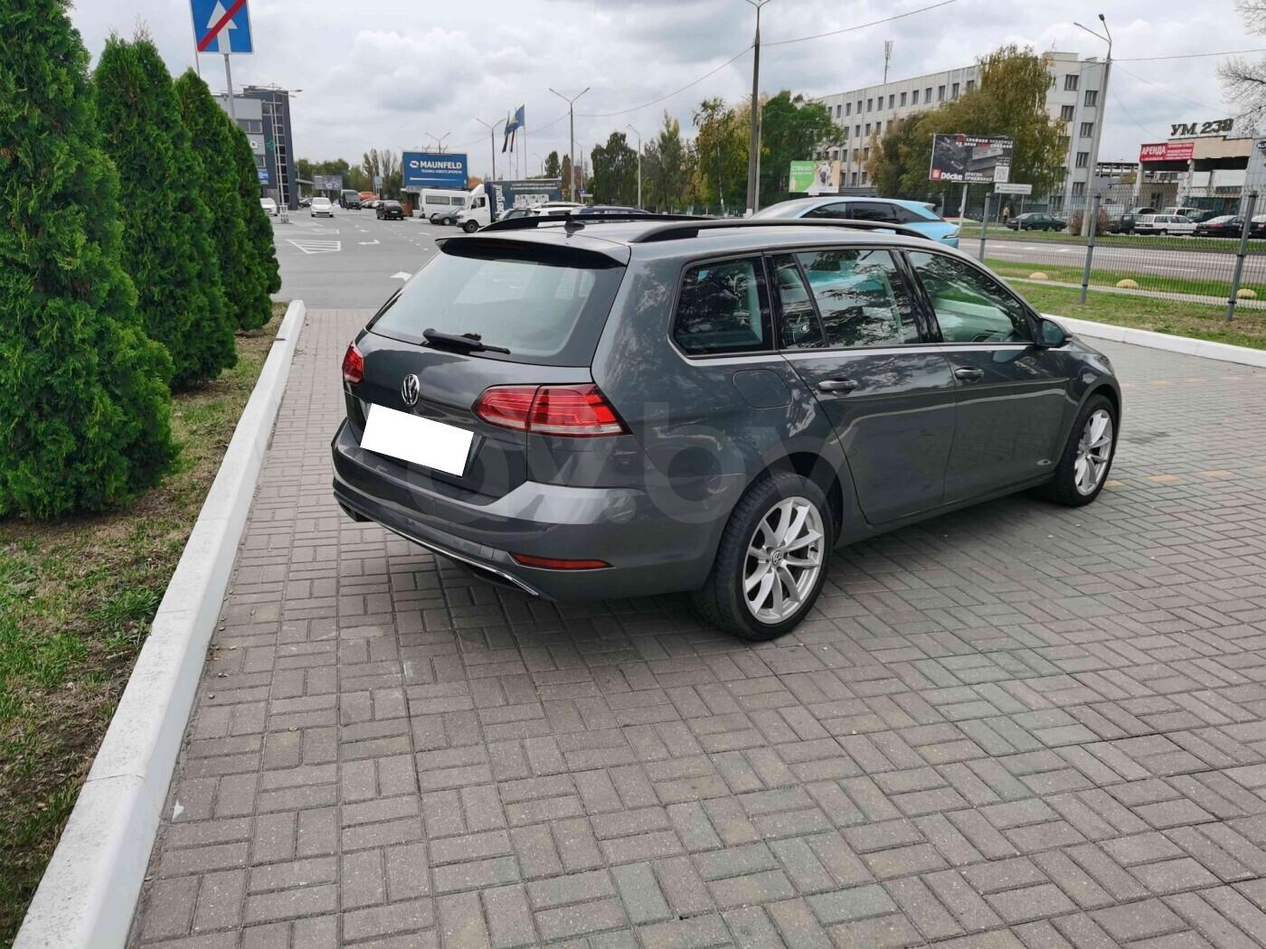Golf_2017-2021: (327, 219, 1110, 636)
